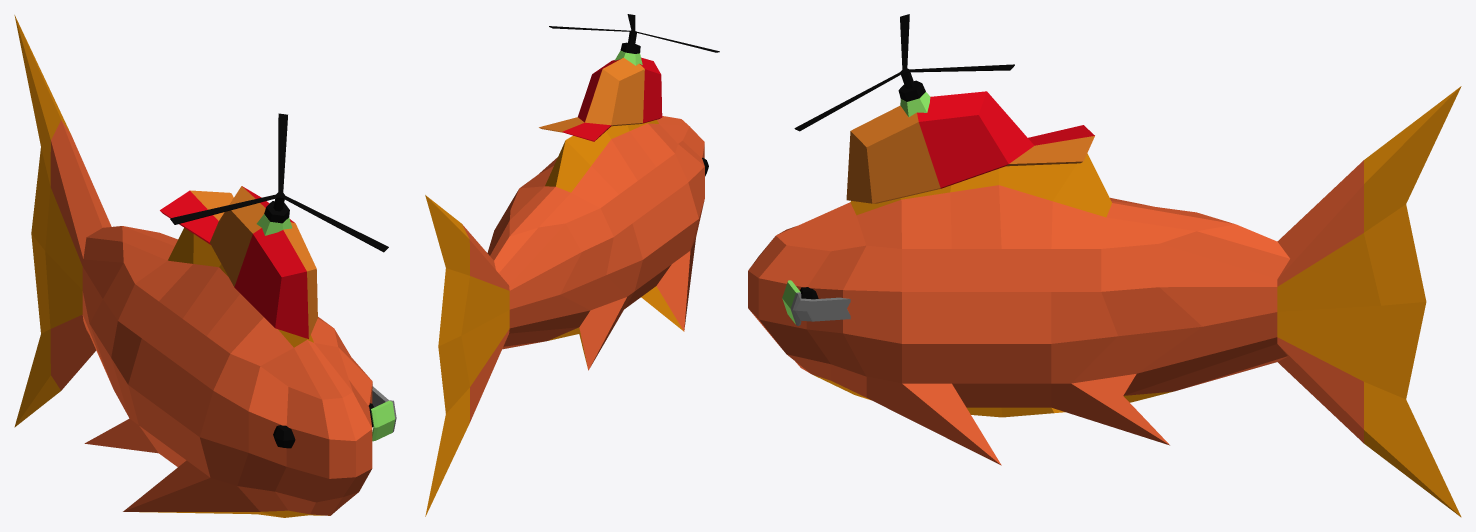
File: Fish.fbx
3 views of the same model, side by side, from view 1: azimuth 30°, elevation 25°; view 2: azimuth 150°, elevation 25°; view 3: azimuth 270°, elevation 25° (orthographic). The views are drawn at different scales.
Parts seen in each view (by area): view 1: Fish Flint Glockfish, Hat, Hat.001, Cube; view 2: Fish Flint Glockfish, Hat, Hat.001; view 3: Fish Flint Glockfish, Hat, Hat.001, Cube.
Part boxes in pixels (x1,y1,x2,y2): Fish Flint Glockfish: (14, 15, 373, 517); Hat: (160, 186, 317, 338); Hat.001: (170, 113, 388, 252); Cube: (371, 386, 396, 441); Fish Flint Glockfish: (425, 116, 708, 516); Hat: (539, 50, 662, 141); Hat.001: (549, 14, 719, 53); Fish Flint Glockfish: (748, 86, 1461, 517); Hat: (846, 91, 1094, 203); Hat.001: (794, 14, 1014, 131); Cube: (782, 280, 850, 325).
Bounding box in the file's own units: 229 × 450 × 607.
